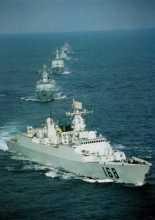warship: (15, 100, 151, 186), (31, 62, 61, 102), (52, 47, 67, 75)
